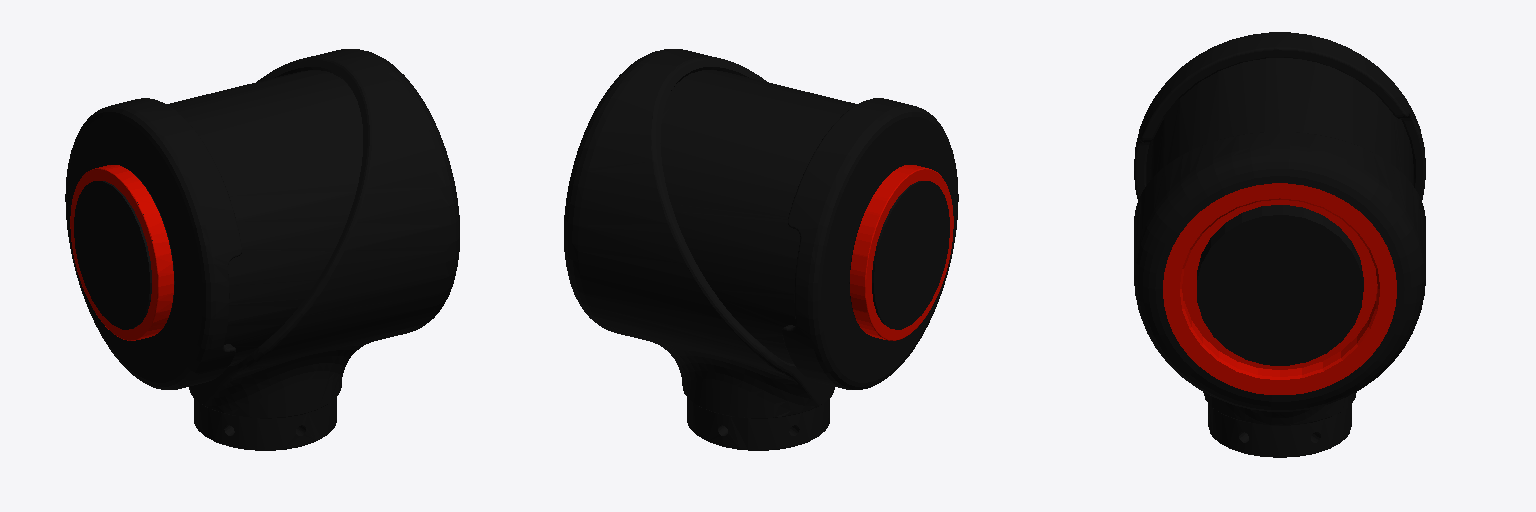
3 views of the same model, side by side, from view 1: azimuth 30°, elevation 25°; view 2: azimuth 150°, elevation 25°; view 3: azimuth 270°, elevation 25° (orthographic).
Parts seen in each view (by area): view 1: AL1; view 2: AL1; view 3: AL1.
Boxes of the visible parts, <box> form: AL1: <box>65,49,459,450</box>; AL1: <box>564,49,958,450</box>; AL1: <box>1134,32,1425,457</box>.
Bounding box in the file's own units: 0.0695 × 0.0775 × 0.061.